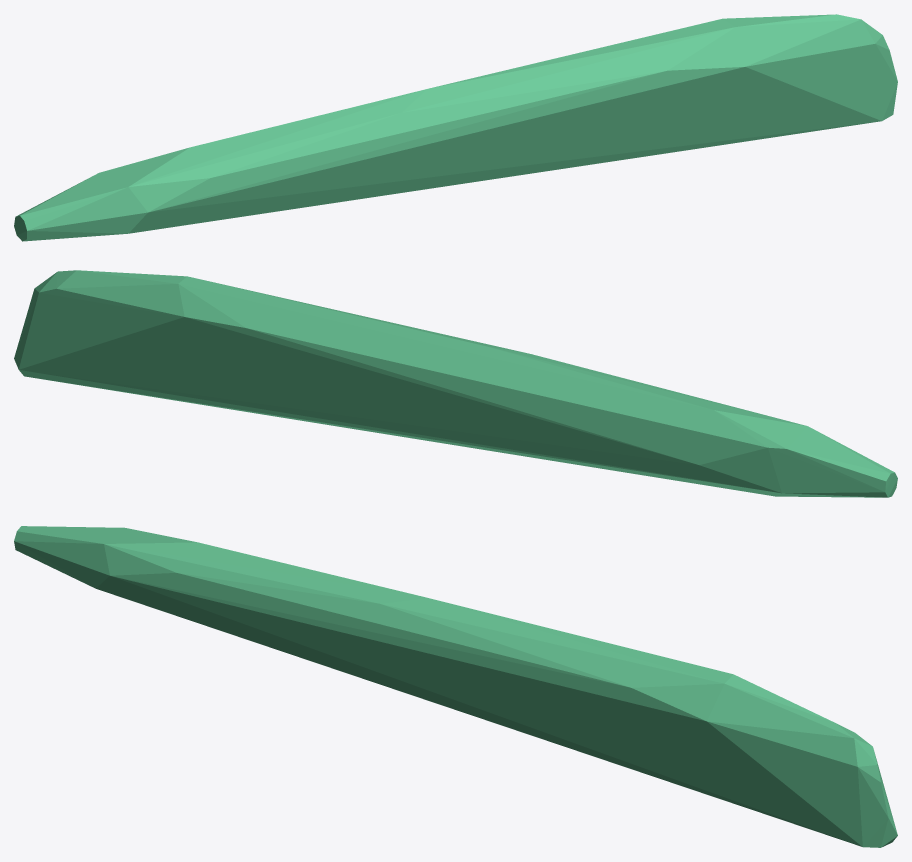
The model's file is consumable_hose_hydraulic_a02.glb.
The picture shows the model from 3 angles, top to bottom: view 1: azimuth 30°, elevation 25°; view 2: azimuth 150°, elevation 25°; view 3: azimuth 330°, elevation 25°; orthographic projection.
Visible parts, largest first — view 1: geometry_0; view 2: geometry_0; view 3: geometry_0.
Boxes of the visible parts, x1,y1,x2,y2 form: geometry_0: (14, 14, 897, 241); geometry_0: (14, 270, 897, 497); geometry_0: (14, 526, 897, 847).
Size of the model in its own units: 0.4788 by 0.07 by 0.037.
